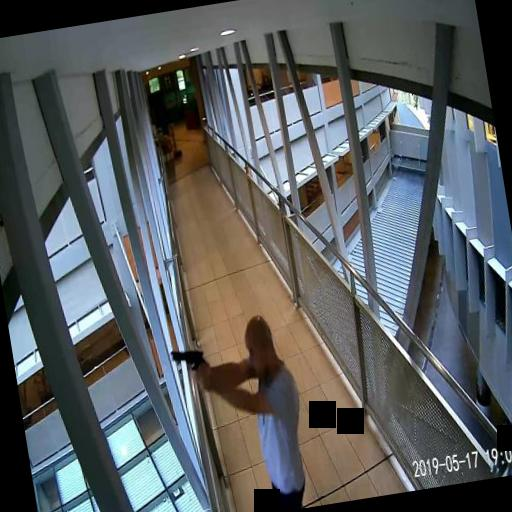Handgun: (168, 344, 208, 388)
